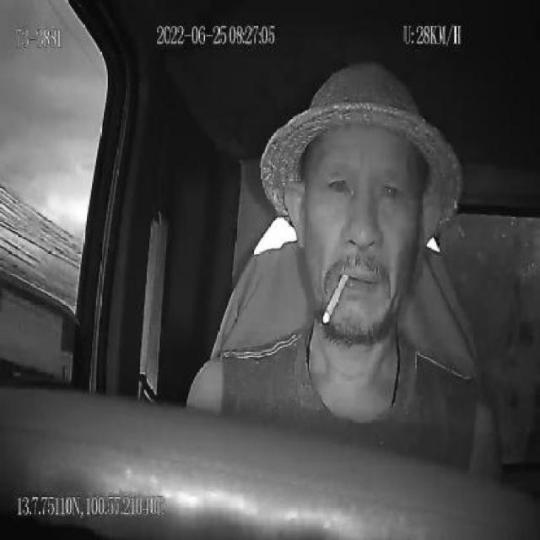smoking: (323, 272, 349, 320)
